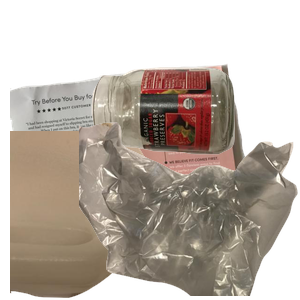glass: (89, 65, 300, 212)
paper: (10, 61, 250, 241)
plastic: (10, 131, 196, 300)
trash: (79, 120, 300, 300)
